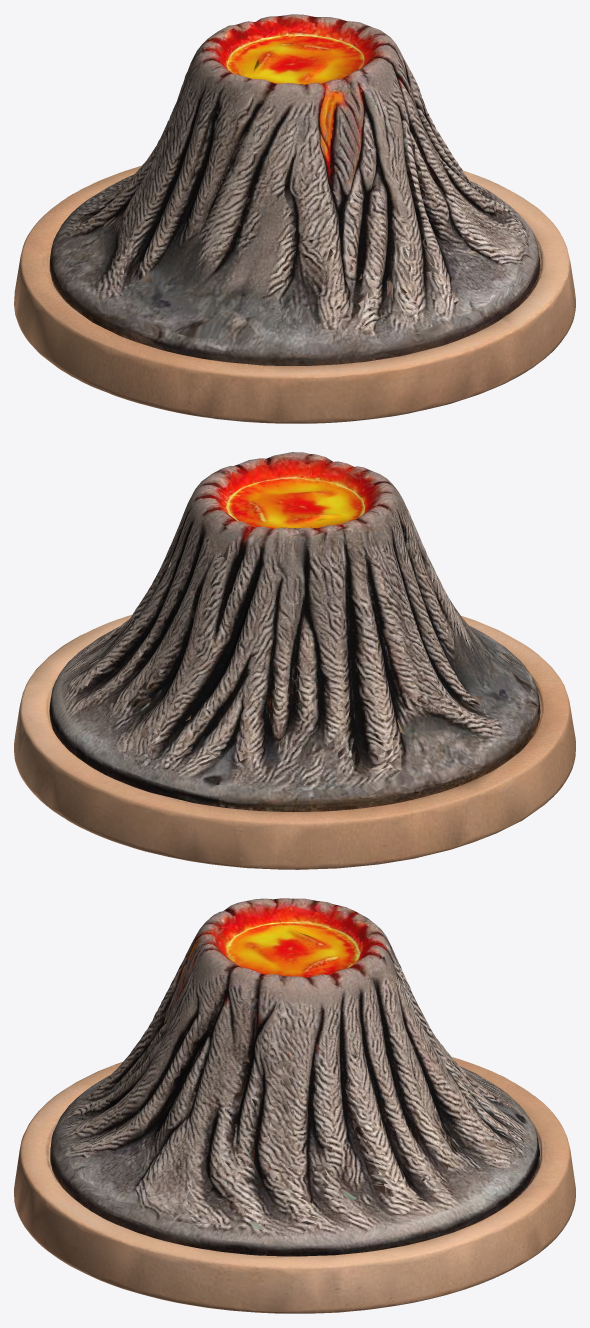
The model's file is volcano.glb.
The picture shows the model from 3 angles, top to bottom: view 1: azimuth 30°, elevation 25°; view 2: azimuth 150°, elevation 25°; view 3: azimuth 270°, elevation 25°; orthographic projection.
Parts seen in each view (by area): view 1: volcano; view 2: volcano; view 3: volcano.
Boxes of the visible parts, x1,y1,x2,y2 form: volcano: (14, 14, 575, 423); volcano: (14, 452, 575, 869); volcano: (14, 898, 575, 1313).
Bounding box in the file's own units: 0.9996 × 0.514 × 1.
Materials: 1 (1 with a texture image).
